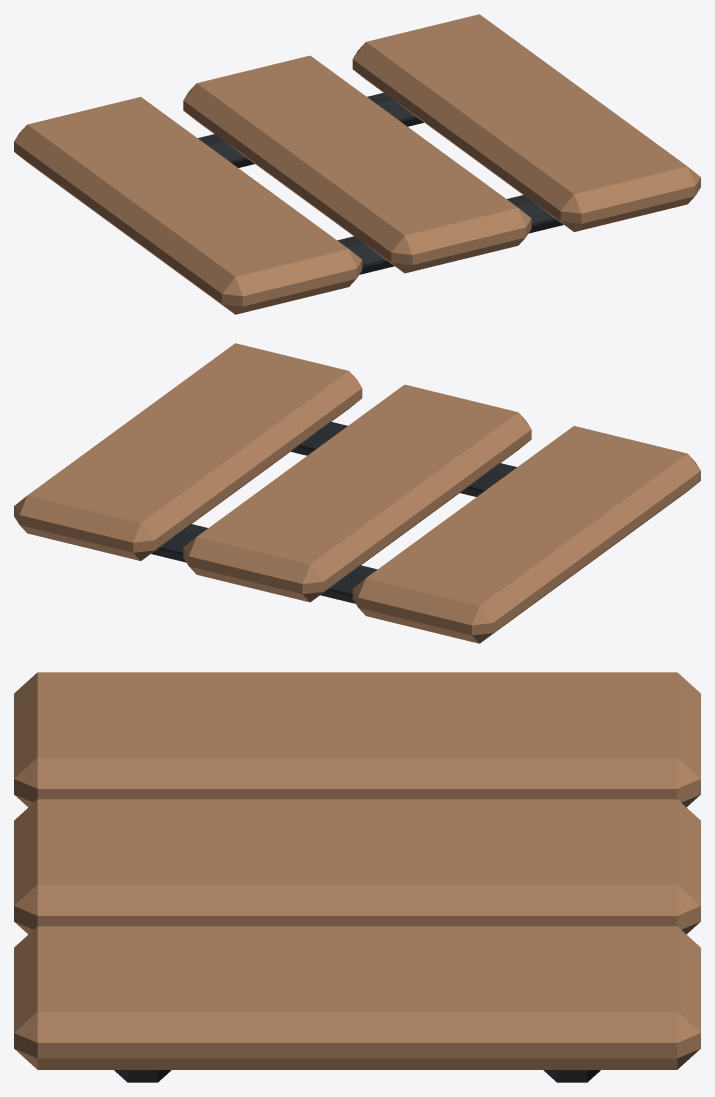
The model's file is pallet.glb.
The picture shows the model from 3 angles, top to bottom: view 1: azimuth 30°, elevation 25°; view 2: azimuth 150°, elevation 25°; view 3: azimuth 270°, elevation 25°; orthographic projection. The views are drawn at different scales.
Visible parts, largest first — view 1: plank.003, foot.002; view 2: plank.003, foot.002; view 3: plank.003, foot.002.
Part boxes in pixels (left/top/right/bottom): plank.003: left=14, top=14, right=700, bottom=314; foot.002: left=198, top=92, right=563, bottom=274; plank.003: left=14, top=343, right=700, bottom=643; foot.002: left=151, top=421, right=516, bottom=603; plank.003: left=14, top=672, right=700, bottom=1069; foot.002: left=114, top=1070, right=600, bottom=1082.
Size of the model in its own units: 1.98 by 0.225 by 1.6.
